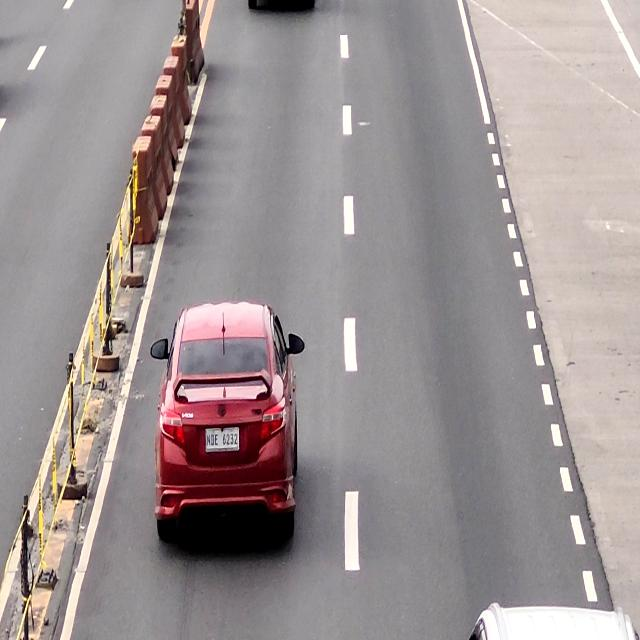Car: (151, 298, 304, 542)
License-Plate: (204, 430, 240, 452)
